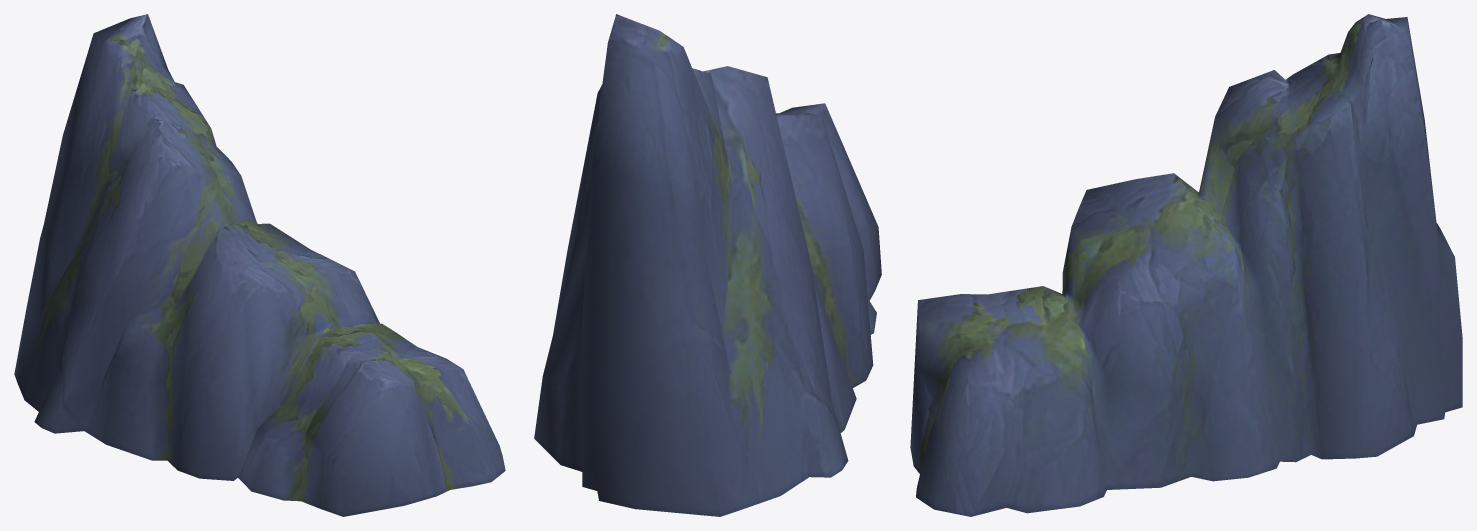
File: rock_wall_a.glb
3 views of the same model, side by side, from view 1: azimuth 30°, elevation 25°; view 2: azimuth 150°, elevation 25°; view 3: azimuth 270°, elevation 25° (orthographic). The views are drawn at different scales.
Parts seen in each view (by area): view 1: tripo_node_dbaaecc9-710d-4143-9c2d-17c90e7c155b; view 2: tripo_node_dbaaecc9-710d-4143-9c2d-17c90e7c155b; view 3: tripo_node_dbaaecc9-710d-4143-9c2d-17c90e7c155b.
Boxes of the visible parts, x1,y1,x2,y2 form: tripo_node_dbaaecc9-710d-4143-9c2d-17c90e7c155b: (14, 14, 505, 516); tripo_node_dbaaecc9-710d-4143-9c2d-17c90e7c155b: (534, 14, 881, 516); tripo_node_dbaaecc9-710d-4143-9c2d-17c90e7c155b: (910, 14, 1462, 516).
Size of the model in its own units: 0.752 by 0.7988 by 0.998.
Materials: 1 (1 with a texture image).
